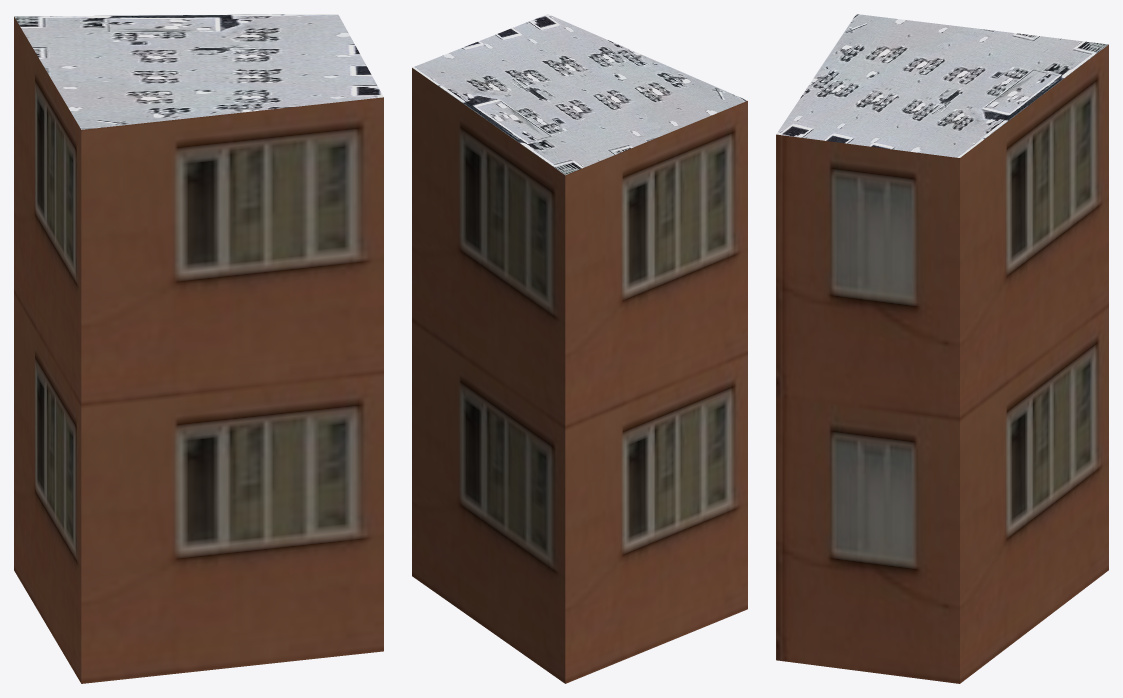
Rendered from ResTex__2862.fbx.
3 renders of one model, left to right at view 1: azimuth 30°, elevation 25°; view 2: azimuth 150°, elevation 25°; view 3: azimuth 270°, elevation 25°, orthographic. The views are drawn at different scales.
Parts seen in each view (by area): view 1: CityEngineMaterial_20_m, CityEngineMaterial_2_m; view 2: CityEngineMaterial_20_m, CityEngineMaterial_2_m; view 3: CityEngineMaterial_20_m, CityEngineMaterial_2_m.
Boxes of the visible parts, box(x1,y1,x2,y2) form: CityEngineMaterial_20_m: box(14, 17, 383, 683); CityEngineMaterial_2_m: box(14, 14, 383, 129); CityEngineMaterial_20_m: box(412, 68, 747, 683); CityEngineMaterial_2_m: box(412, 14, 747, 175); CityEngineMaterial_20_m: box(776, 44, 1108, 683); CityEngineMaterial_2_m: box(776, 14, 1108, 157).
Size of the model in its own units: 3.53 by 6 by 3.44.
2 materials, 2 textured.
